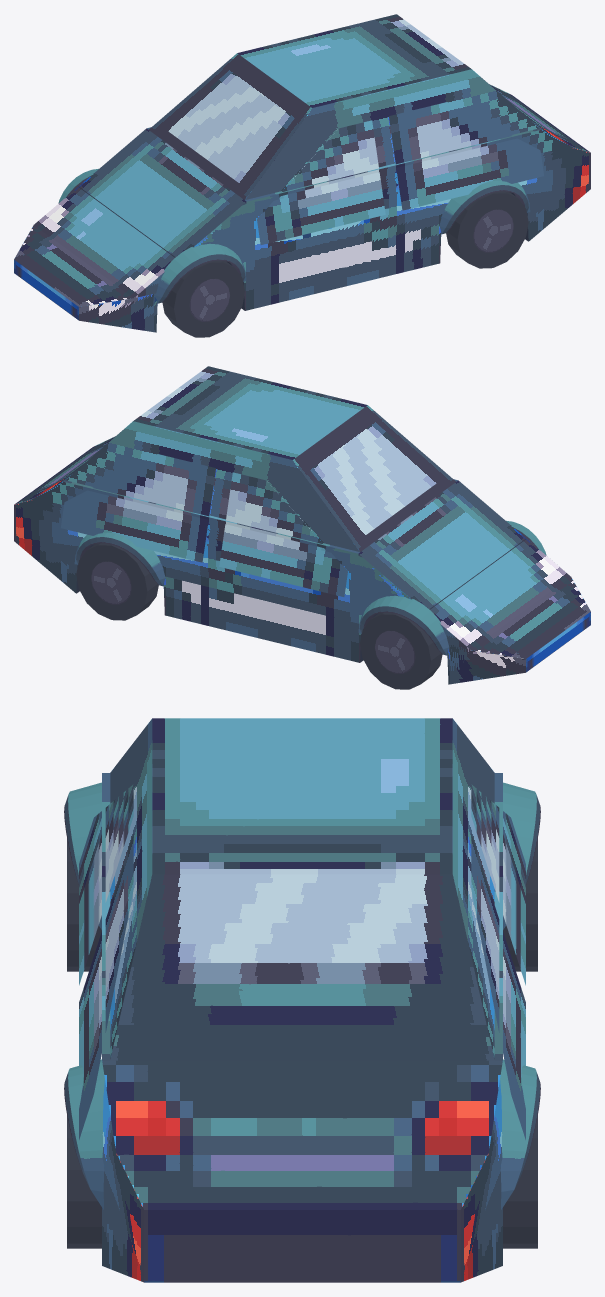
Rendered from compact-2-v7.glb.
3 views of the same model, one above another, from view 1: azimuth 30°, elevation 25°; view 2: azimuth 150°, elevation 25°; view 3: azimuth 270°, elevation 25° (orthographic). The views are drawn at different scales.
Parts seen in each view (by area): view 1: Body · left, Hood, Windshield, Roof, Window and frame · left · rear, Cabin · left, Window and frame · left · front, Tire · -17 · -1, Tire · 17 · -1, Raised fender · left · -17, Raised fender · left · 17, Hub · 17 · -1 (+4 smaller); view 2: Body · right, Hood, Windshield, Roof, Window and frame · right · rear, Cabin · right, Window and frame · right · front, Tire · -17 · 1, Tire · 17 · 1, Raised fender · right · -17, Raised fender · right · 17, Hub · 17 · 1 (+4 smaller); view 3: Rear windshield, Rear hatch, Roof, Rear fascia, Cabin · left, Cabin · right, Window and frame · left · rear, Window and frame · right · rear, Body · left, Body · right, Window and frame · left · front, Window and frame · right · front (+9 smaller).
Boxes of the visible parts, box(x1,y1,x2,y2) form: Body · left: box(79, 129, 590, 332); Hood: box(14, 128, 246, 306); Windshield: box(149, 53, 311, 199); Roof: box(237, 14, 471, 107); Window and frame · left · rear: box(389, 102, 543, 210); Cabin · left: box(245, 69, 539, 199); Window and frame · left · front: box(257, 120, 385, 244); Tire · -17 · -1: box(162, 260, 244, 337); Tire · 17 · -1: box(446, 191, 528, 268); Raised fender · left · -17: box(153, 243, 246, 304); Raised fender · left · 17: box(439, 180, 530, 234); Hub · 17 · -1: box(473, 209, 513, 252); Body · right: box(14, 481, 525, 684); Hood: box(358, 480, 590, 658); Windshield: box(293, 405, 455, 551); Roof: box(133, 366, 367, 459); Window and frame · right · rear: box(61, 454, 215, 562); Cabin · right: box(65, 421, 359, 551); Window and frame · right · front: box(219, 472, 347, 596); Tire · -17 · 1: box(360, 612, 442, 689); Tire · 17 · 1: box(76, 543, 158, 620); Raised fender · right · -17: box(358, 595, 449, 655); Raised fender · right · 17: box(74, 532, 165, 586); Hub · 17 · 1: box(91, 561, 131, 604); Rear windshield: box(110, 874, 494, 1060); Rear hatch: box(102, 1060, 502, 1209); Roof: box(152, 718, 452, 874); Rear fascia: box(144, 1210, 460, 1282); Cabin · left: box(110, 718, 152, 1058); Cabin · right: box(452, 718, 494, 1058); Window and frame · left · rear: box(79, 833, 133, 1139); Window and frame · right · rear: box(471, 833, 525, 1139); Body · left: box(102, 1061, 144, 1282); Body · right: box(460, 1061, 502, 1282); Window and frame · left · front: box(79, 784, 133, 985); Window and frame · right · front: box(471, 784, 525, 985).
Size of the model in its own units: 58.2 by 20.2 by 23.8.
1 material, 1 textured.
